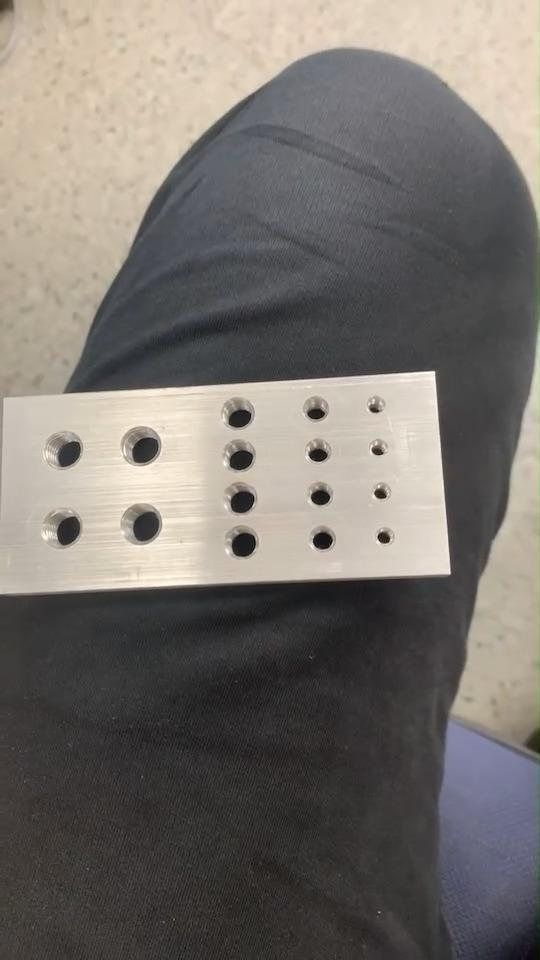hole: (40, 427, 85, 472), (122, 500, 166, 545), (121, 425, 163, 467), (41, 506, 81, 548), (220, 394, 256, 429), (222, 483, 258, 516), (222, 527, 259, 559), (221, 441, 257, 472), (304, 480, 337, 510), (308, 524, 339, 554), (302, 396, 332, 422), (303, 438, 332, 464), (364, 394, 387, 417), (367, 437, 389, 460), (370, 481, 390, 503), (375, 526, 394, 548)
